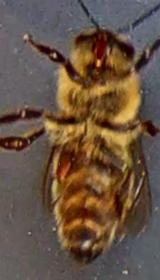varroa_mite: (52, 144, 78, 184)
